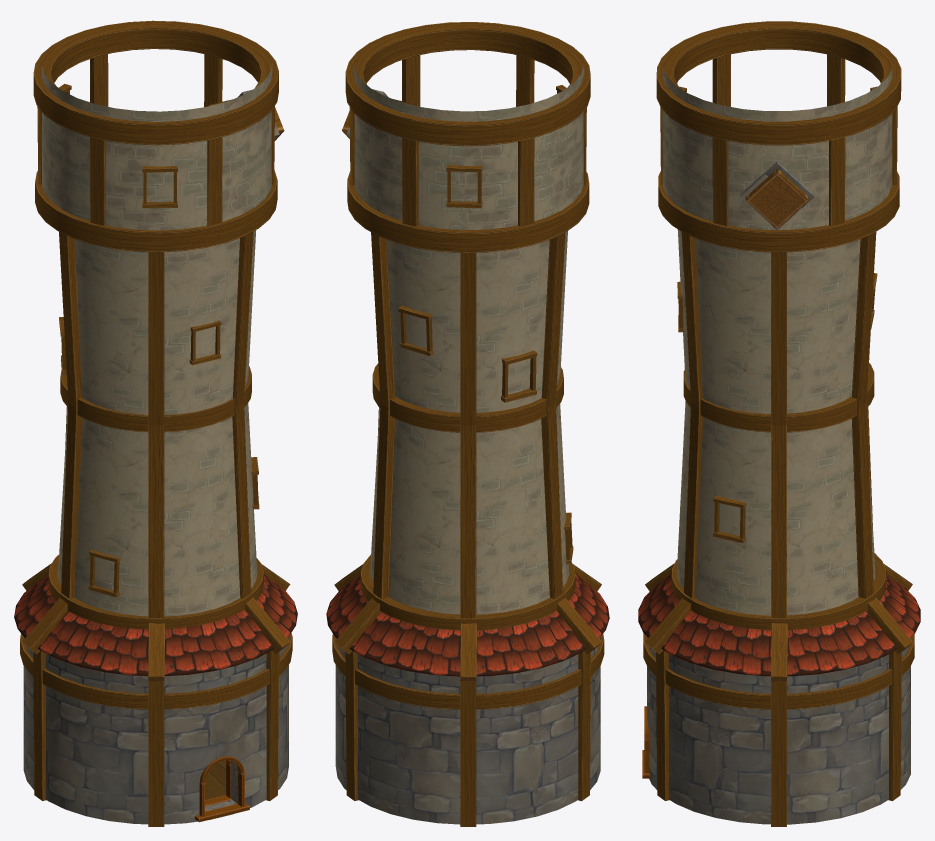
Rendered from sm_windmill_base.gltf.
3 renders of one model, left to right at view 1: azimuth 30°, elevation 25°; view 2: azimuth 150°, elevation 25°; view 3: azimuth 270°, elevation 25°, orthographic.
Parts seen in each view (by area): view 1: SM_WIndmill_Base; view 2: SM_WIndmill_Base; view 3: SM_WIndmill_Base.
Part boxes in pixels (x1,y1,x2,y2): SM_WIndmill_Base: (14,20,297,826); SM_WIndmill_Base: (326,22,609,826); SM_WIndmill_Base: (638,21,920,826).
Bounding box in the file's own units: 17.09 × 44.37 × 16.07.
Materials: 8 (8 with a texture image).
